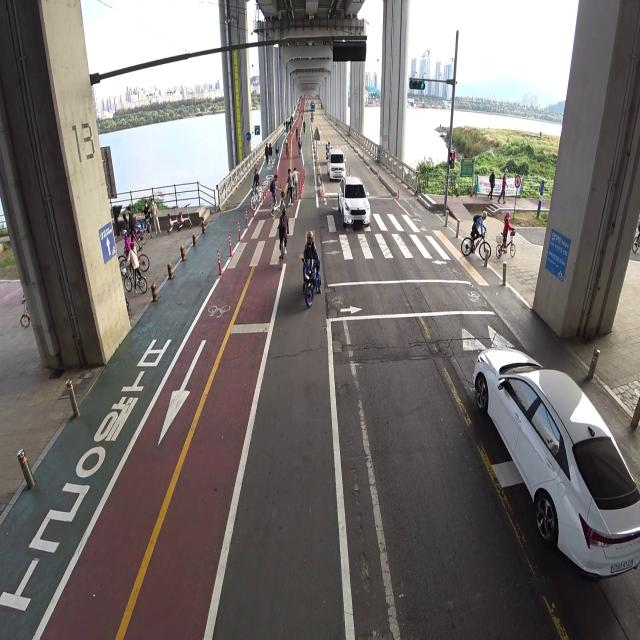Bus: (309, 96, 316, 120)
Car: (458, 318, 640, 615), (336, 173, 382, 230), (324, 147, 353, 180)
Motorcycle: (301, 230, 321, 308), (325, 138, 333, 163)
